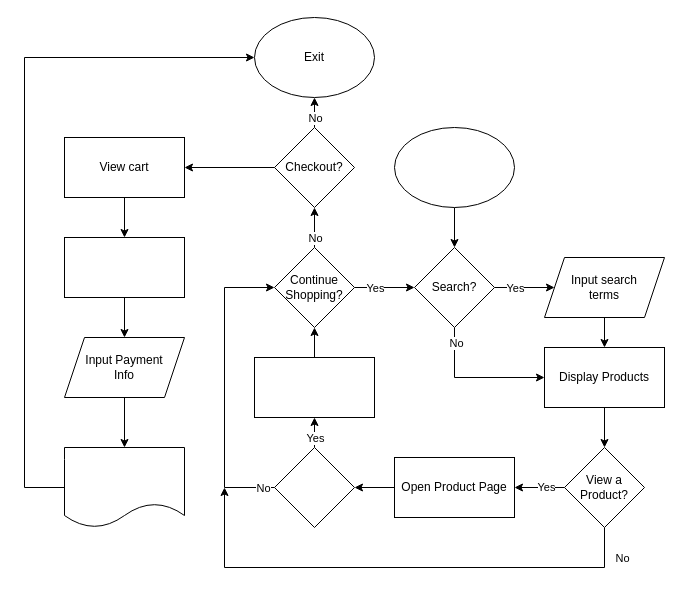
This 682x593 diagram has some shape labels left out. The shapes that lost their labels are listed below. From the top down, each one's centre as x and y in pixels, then its label:
At (454,167): "Start".
At (124,267): "View payment".
At (314,387): "Show added to cart confirmation".
At (124,487): "Order confirmation/Email".
At (314,487): "Add to Cart?".
